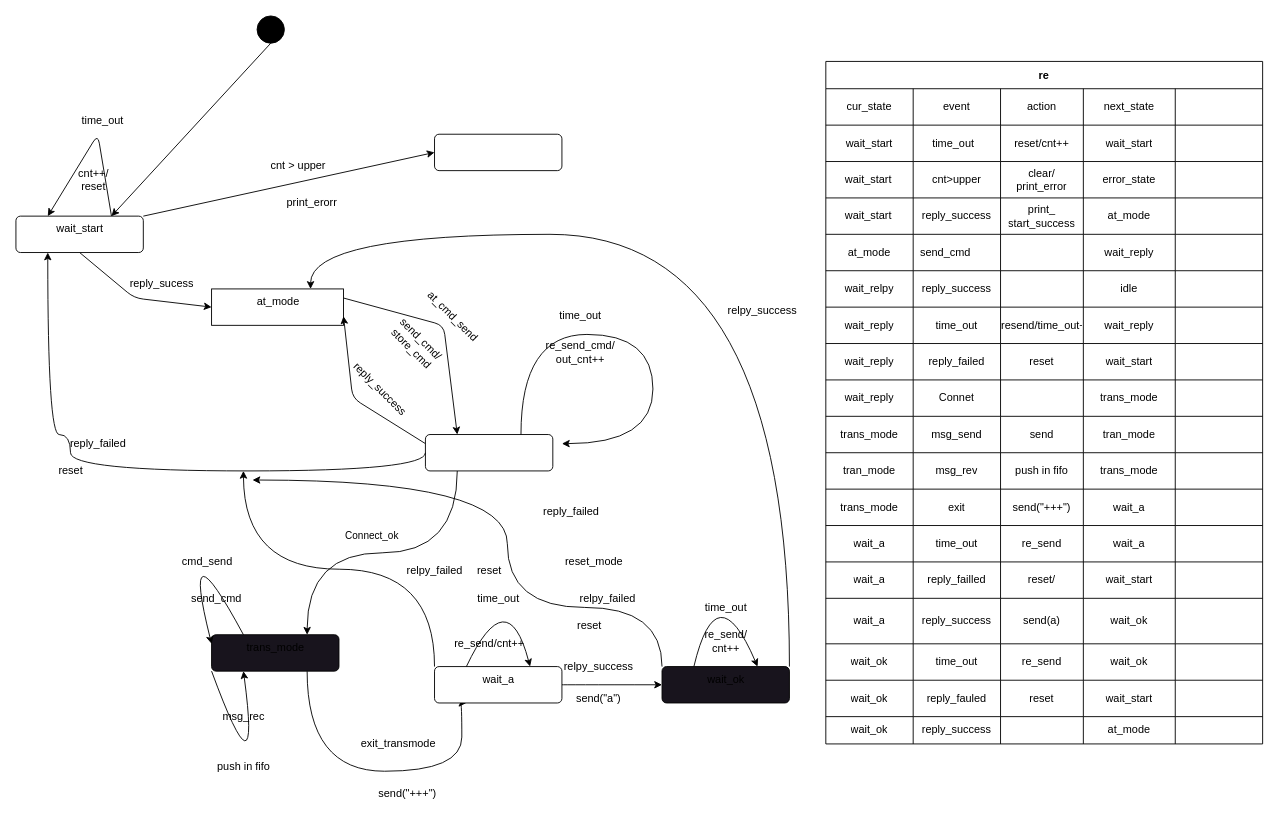
This 1279x824 diagram has some shape labels left out. Each missing label, with the centre of its shape:
error: the point at 498,152
wait relpy: the point at 489,452
